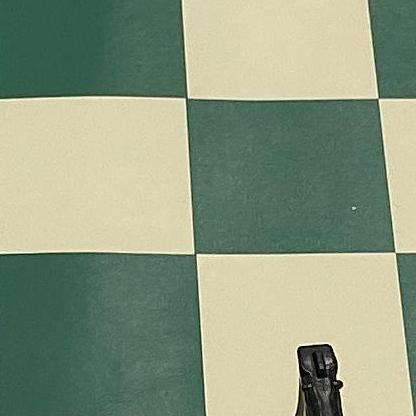black-knight: (237, 346, 373, 416)
